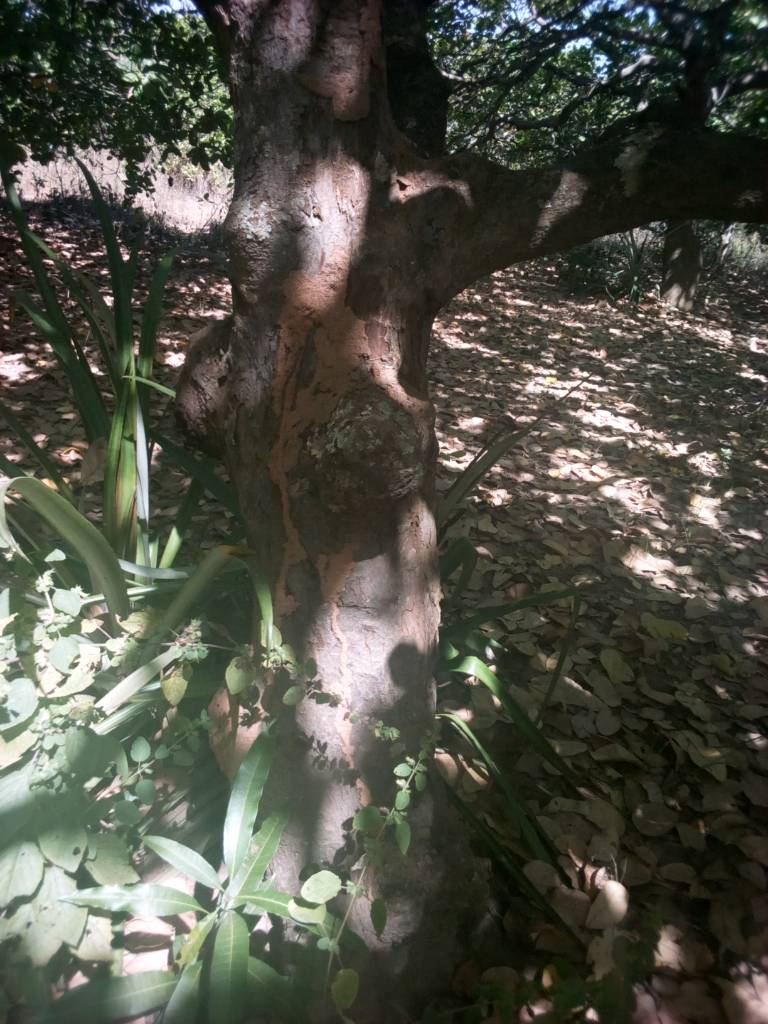Termites: (272, 274, 396, 622)
